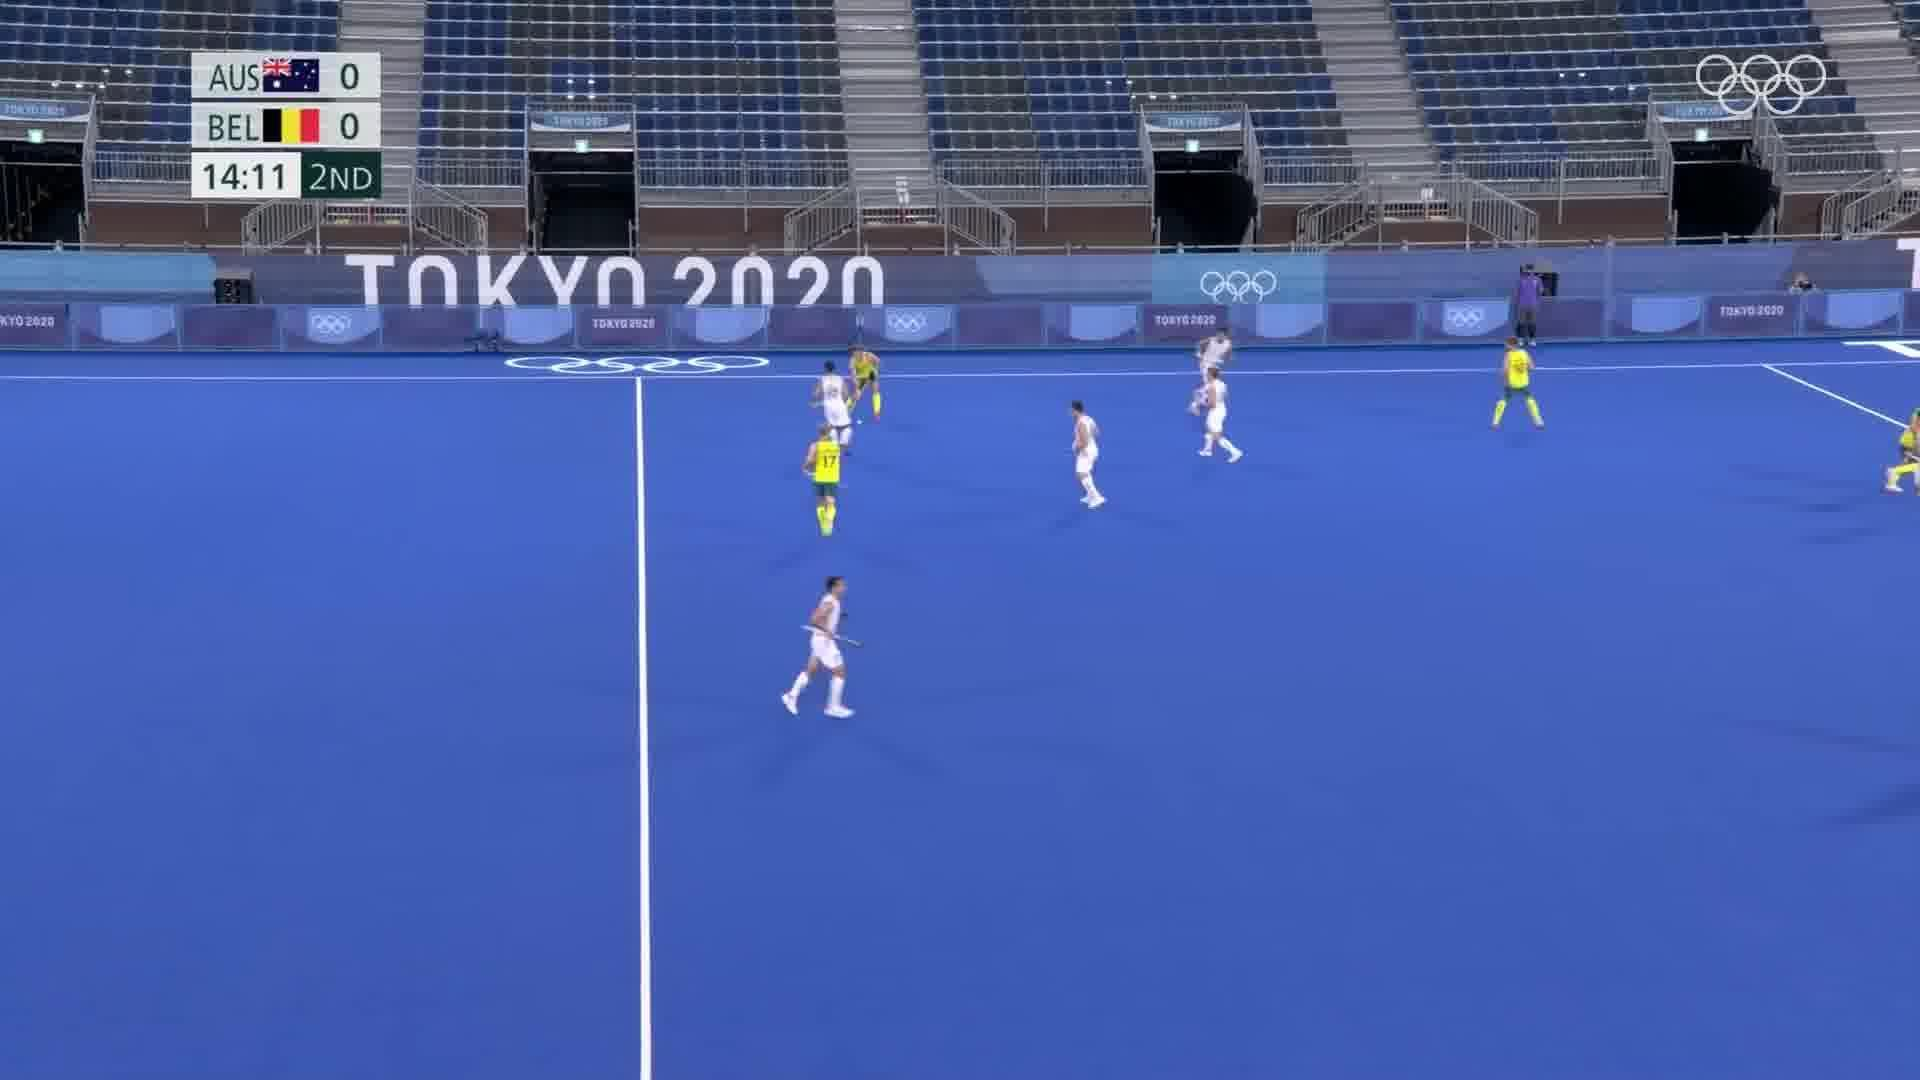ball: (855, 418, 864, 427)
